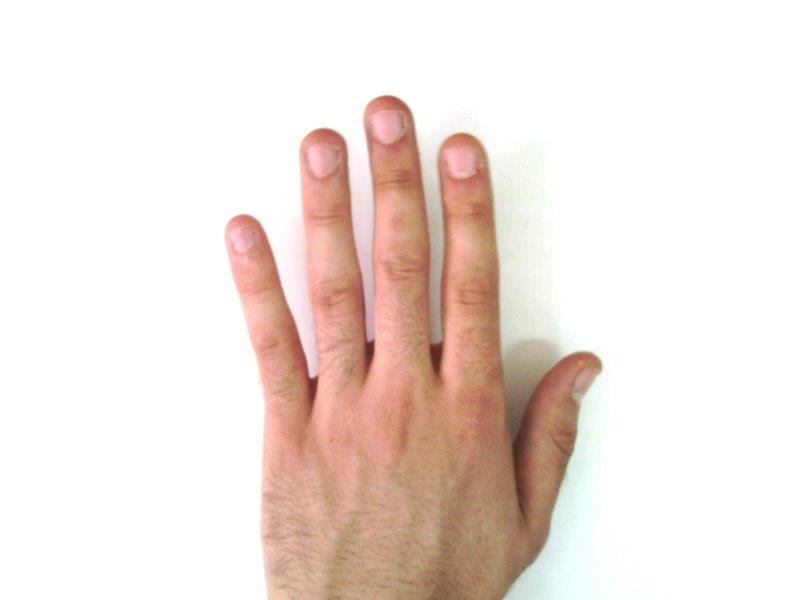hand: (224, 96, 605, 600)
